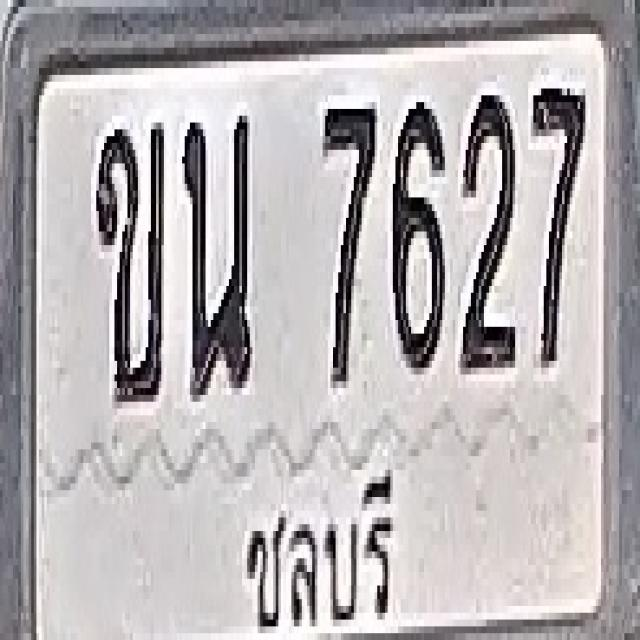-: (94, 116, 164, 402), (181, 109, 251, 395)
2: (461, 89, 515, 368)
6: (392, 95, 444, 368)
7: (531, 78, 585, 364), (321, 102, 376, 381)
CBI: (232, 449, 400, 640)
